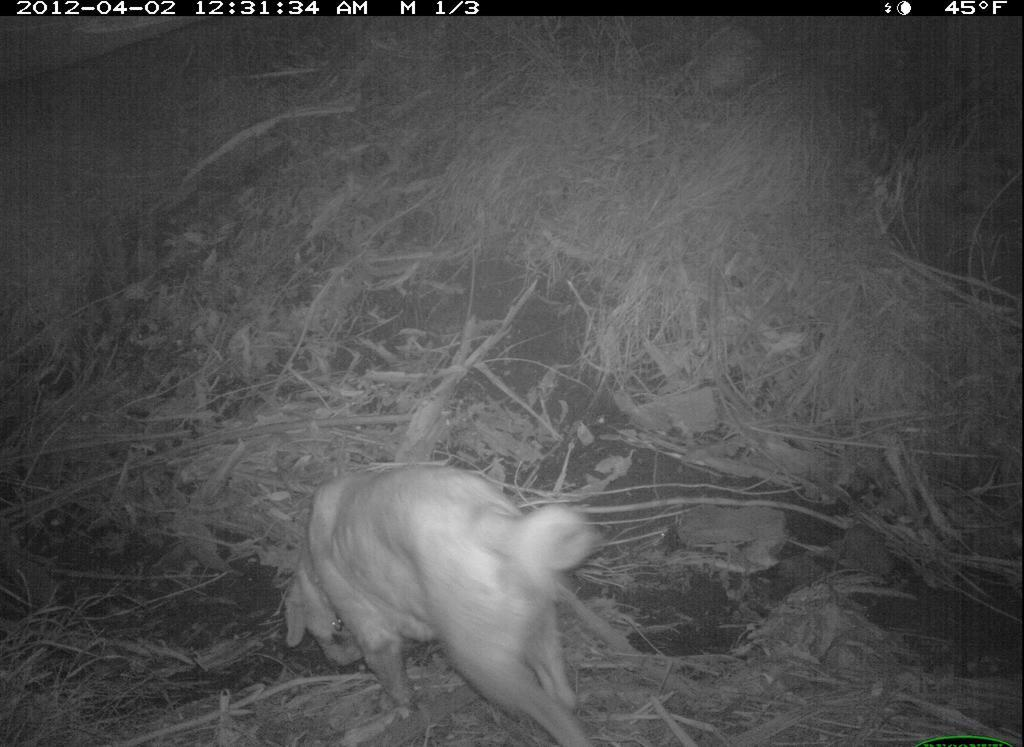dog: (208, 441, 639, 747)
